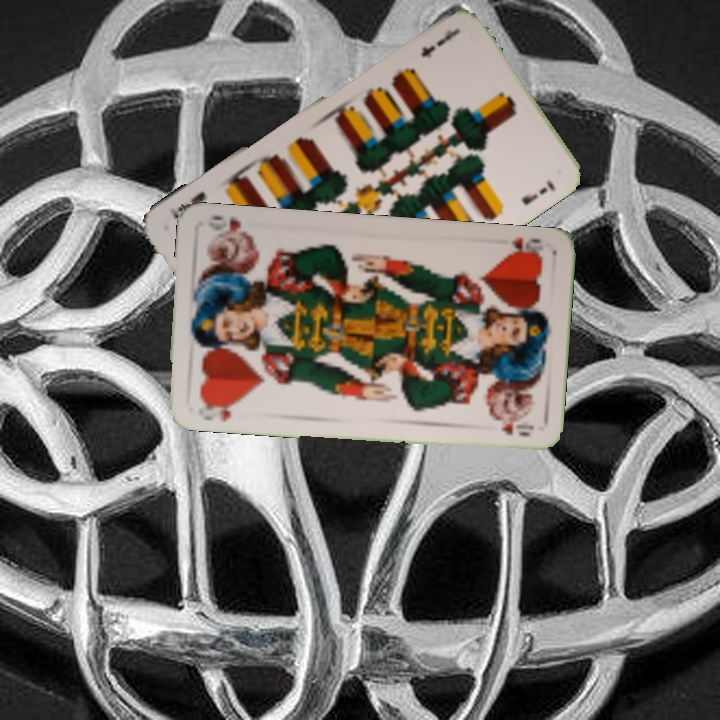E7: (416, 25, 459, 59)
HO: (195, 395, 245, 424), (503, 234, 545, 261)
